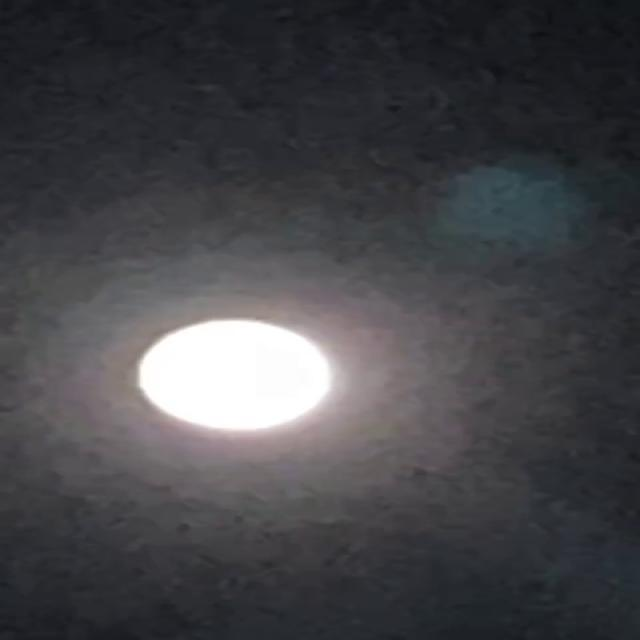moon: (114, 307, 352, 451)
